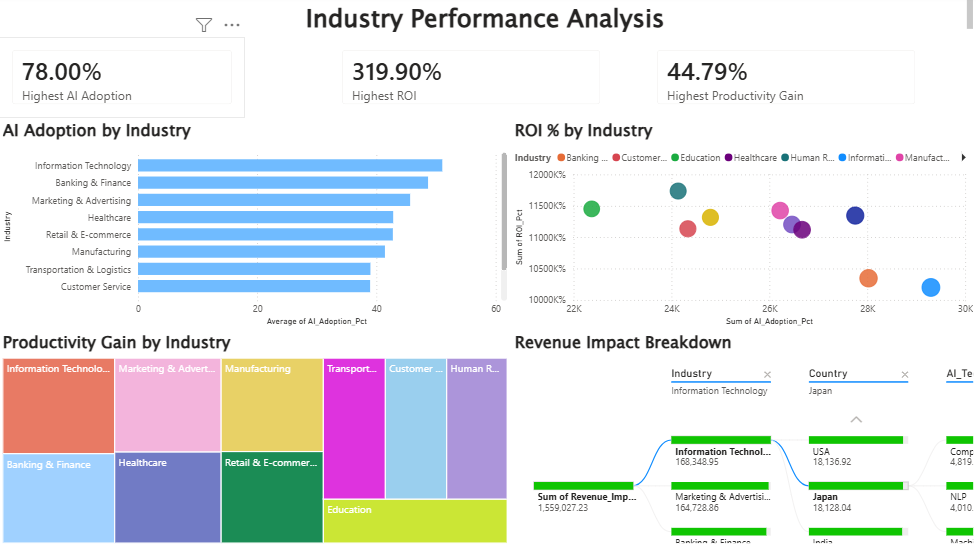

This screenshot's page, from the dashboard's own definition file:
{"tool":"powerbi","page":{"name":"Industry Performance Analysis","canvas":[1280,720],"ordinal":1},"visuals":[{"type":"textbox","box":[0,0,1280.2,53.3],"z":0},{"type":"cardVisual","fields":{"Data":["AI_Impact_Data.Max Adoption"]},"box":[0,53.8,322.5,105.8],"z":1000},{"type":"cardVisual","fields":{"Data":["AI_Impact_Data.Highest ROI"]},"box":[431.7,53.8,372.9,105.8],"z":2000},{"type":"cardVisual","fields":{"Data":["AI_Impact_Data.Highest Productivity Gain"]},"box":[844.9,53.8,372.9,105.8],"z":3000},{"type":"clusteredBarChart","title":" AI Adoption by Industry","fields":{"Category":["AI_Impact_Data.Industry"],"Y":["Avg(AI_Impact_Data.AI_Adoption_Pct)"]},"box":[0,159.6,670.2,277.2],"z":4000},{"type":"scatterChart","title":"ROI % by Industry","fields":{"Category":["AI_Impact_Data.Industry"],"Y":["Sum(AI_Impact_Data.ROI_Pct)"],"Series":["AI_Impact_Data.Industry"],"X":["Sum(AI_Impact_Data.AI_Adoption_Pct)"],"Size":["Avg(AI_Impact_Data.Revenue_Impact_USD_M)"]},"box":[670.2,159.6,609.8,277.2],"z":5000},{"type":"treemap","title":" Productivity Gain by  Industry","fields":{"Group":["AI_Impact_Data.Industry"],"Values":["Sum(AI_Impact_Data.Productivity_Gain_Pct)"]},"box":[0,436.7,670.2,283.9],"z":6000},{"type":"decompositionTreeVisual","title":"Revenue Impact Breakdown","fields":{"Analyze":["Sum(AI_Impact_Data.Revenue_Impact_USD_M)"],"ExplainBy":["AI_Impact_Data.Industry","AI_Impact_Data.Country","AI_Impact_Data.AI_Technology"]},"box":[670.2,436.7,609.8,283.9],"z":7000}]}

Visuals, with their boxes in screenshot pixels (x1, y1, x2, y2), scaled from the page's 1280x720 canvas onto the 976x545 screenshot:
textbox: {"x1": 0, "y1": 0, "x2": 975, "y2": 40}
cardVisual - AI_Impact_Data.Max Adoption: {"x1": 0, "y1": 41, "x2": 246, "y2": 121}
cardVisual - AI_Impact_Data.Highest ROI: {"x1": 329, "y1": 41, "x2": 614, "y2": 121}
cardVisual - AI_Impact_Data.Highest Productivity Gain: {"x1": 644, "y1": 41, "x2": 929, "y2": 121}
" AI Adoption by Industry" clusteredBarChart: {"x1": 0, "y1": 121, "x2": 511, "y2": 331}
"ROI % by Industry" scatterChart: {"x1": 511, "y1": 121, "x2": 975, "y2": 331}
" Productivity Gain by  Industry" treemap: {"x1": 0, "y1": 331, "x2": 511, "y2": 544}
"Revenue Impact Breakdown" decompositionTreeVisual: {"x1": 511, "y1": 331, "x2": 975, "y2": 544}
